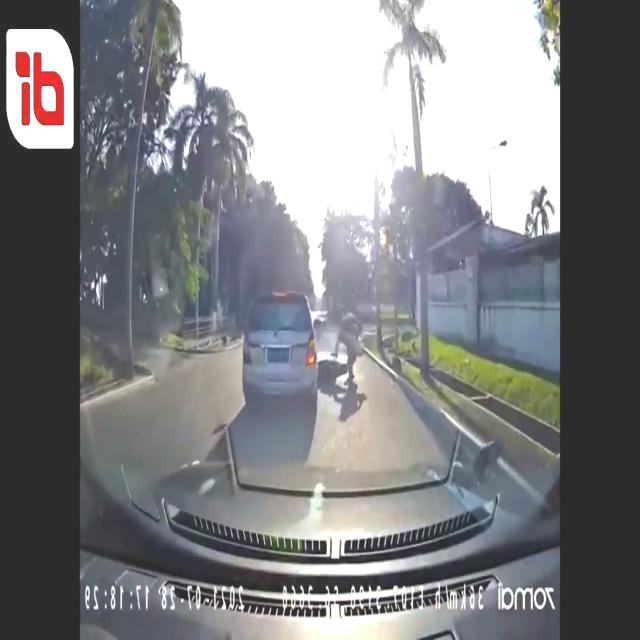accident: (240, 288, 366, 409)
